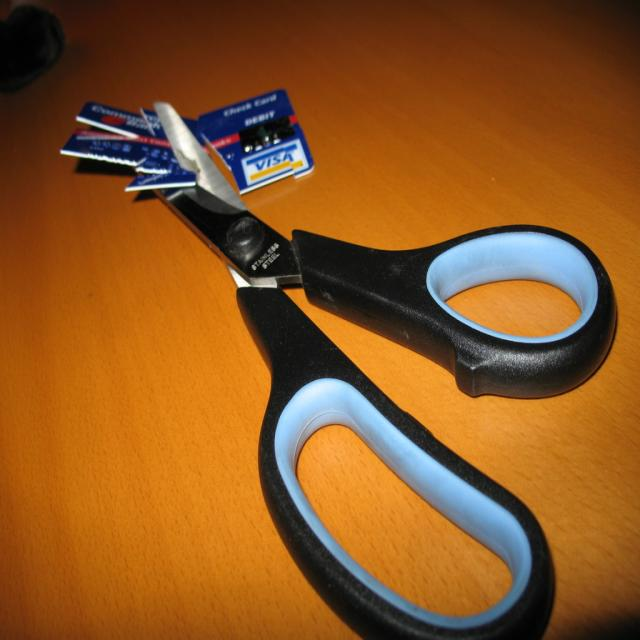scissors: (130, 99, 618, 638)
